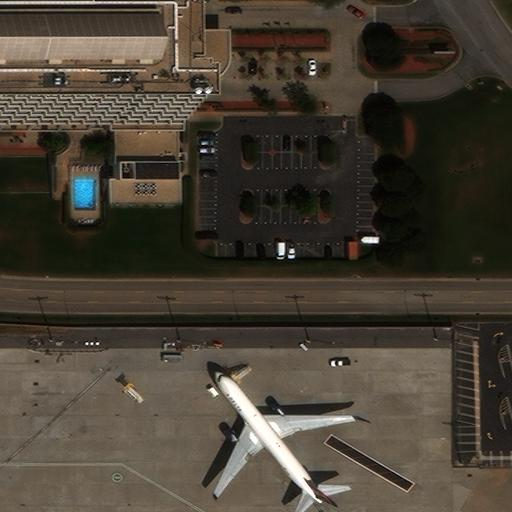Large Civil Transport: (212, 370, 351, 503)
